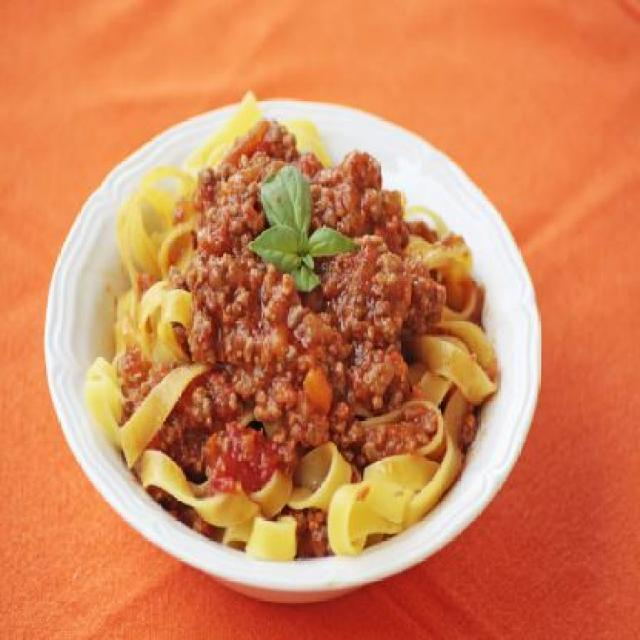Pasta al ragu: (114, 104, 506, 560)
